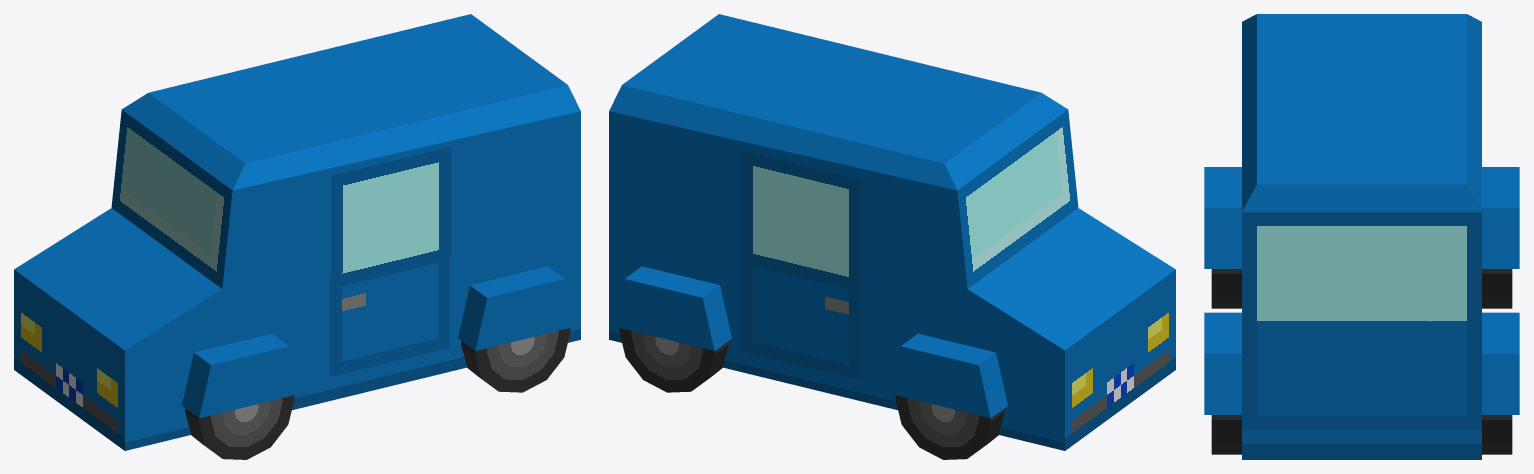
Rendered from blue.gltf.
The picture shows the model from 3 angles, left to right: view 1: azimuth 30°, elevation 25°; view 2: azimuth 150°, elevation 25°; view 3: azimuth 270°, elevation 25°; orthographic projection. The views are drawn at different scales.
Visible parts, largest first — view 1: cube (×3), circle (×2); view 2: cube (×3), circle (×2); view 3: cube (×5), circle (×4).
Boxes of the visible parts, x1,y1,x2,y2 form: cube (×3): (14, 14, 580, 450); circle (×2): (185, 328, 570, 459); cube (×3): (609, 14, 1175, 450); circle (×2): (619, 328, 1004, 459); cube (×5): (1204, 14, 1519, 459); circle (×4): (1211, 269, 1512, 454).
Bounding box in the file's own units: 2.38 × 1.38 × 1.31.
Materials: 1 (1 with a texture image).
